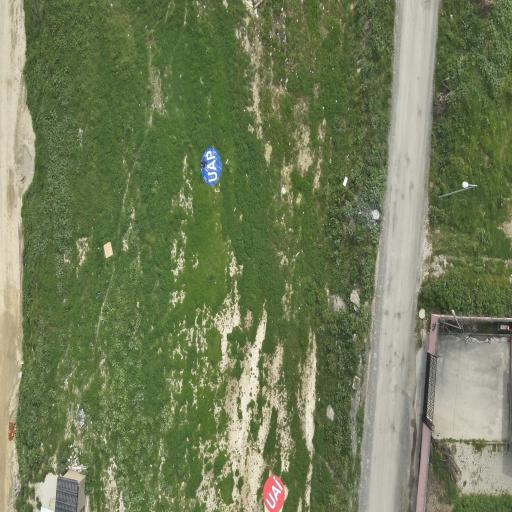UAI: (263, 475, 285, 511)
UAP: (202, 147, 222, 185)
person: (202, 160, 206, 167)
